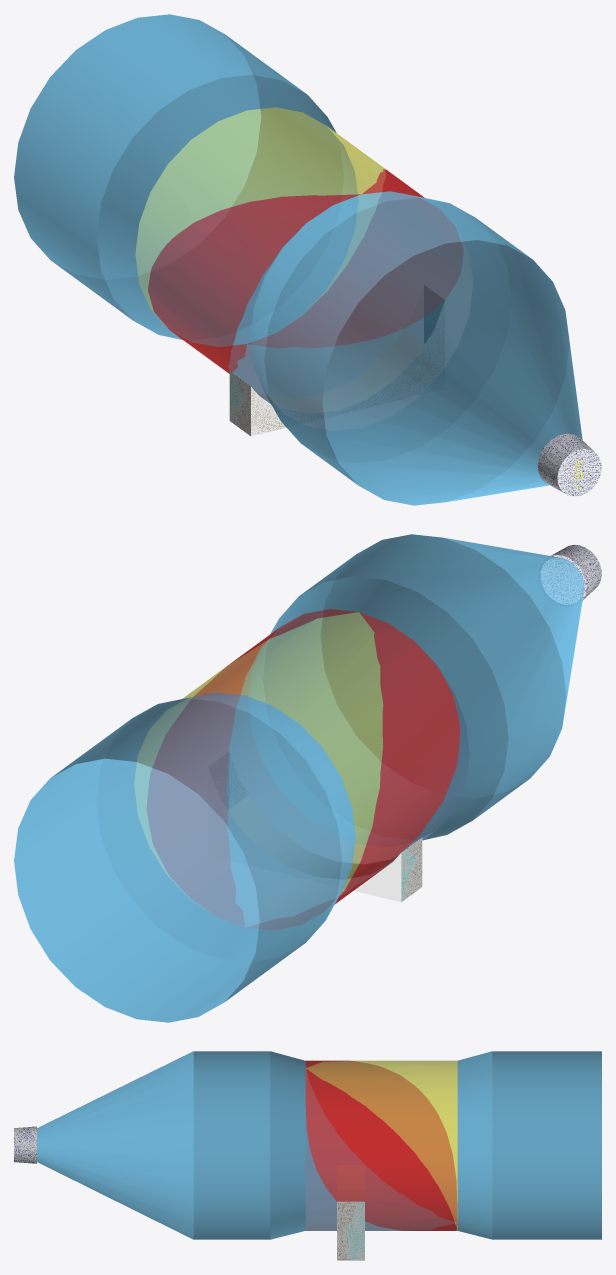
The model's file is model_align.obj.
The picture shows the model from 3 angles, top to bottom: view 1: azimuth 30°, elevation 25°; view 2: azimuth 150°, elevation 25°; view 3: azimuth 270°, elevation 25°; orthographic projection. The views are drawn at different scales.
Parts seen in each view (by area): view 1: mesh1_mesh1-geometry, mesh2_mesh2-geometry, mesh14_mesh14-geometry, mesh18_mesh18-geometry; view 2: mesh1_mesh1-geometry, mesh2_mesh2-geometry, mesh14_mesh14-geometry, mesh18_mesh18-geometry; view 3: mesh2_mesh2-geometry, mesh1_mesh1-geometry, mesh14_mesh14-geometry, mesh18_mesh18-geometry.
Part boxes in pixels (bbox=[...]): mesh1_mesh1-geometry: bbox=[14, 14, 358, 346]; mesh2_mesh2-geometry: bbox=[250, 191, 582, 505]; mesh14_mesh14-geometry: bbox=[135, 107, 463, 436]; mesh18_mesh18-geometry: bbox=[538, 433, 601, 496]; mesh1_mesh1-geometry: bbox=[14, 692, 355, 1022]; mesh2_mesh2-geometry: bbox=[248, 534, 584, 846]; mesh14_mesh14-geometry: bbox=[146, 609, 469, 929]; mesh18_mesh18-geometry: bbox=[540, 544, 601, 604]; mesh2_mesh2-geometry: bbox=[37, 1051, 305, 1239]; mesh1_mesh1-geometry: bbox=[457, 1051, 601, 1239]; mesh14_mesh14-geometry: bbox=[305, 1060, 457, 1260]; mesh18_mesh18-geometry: bbox=[14, 1126, 36, 1163].
Bounding box in the file's own units: 0.0457 × 0.0457 × 0.1421.
